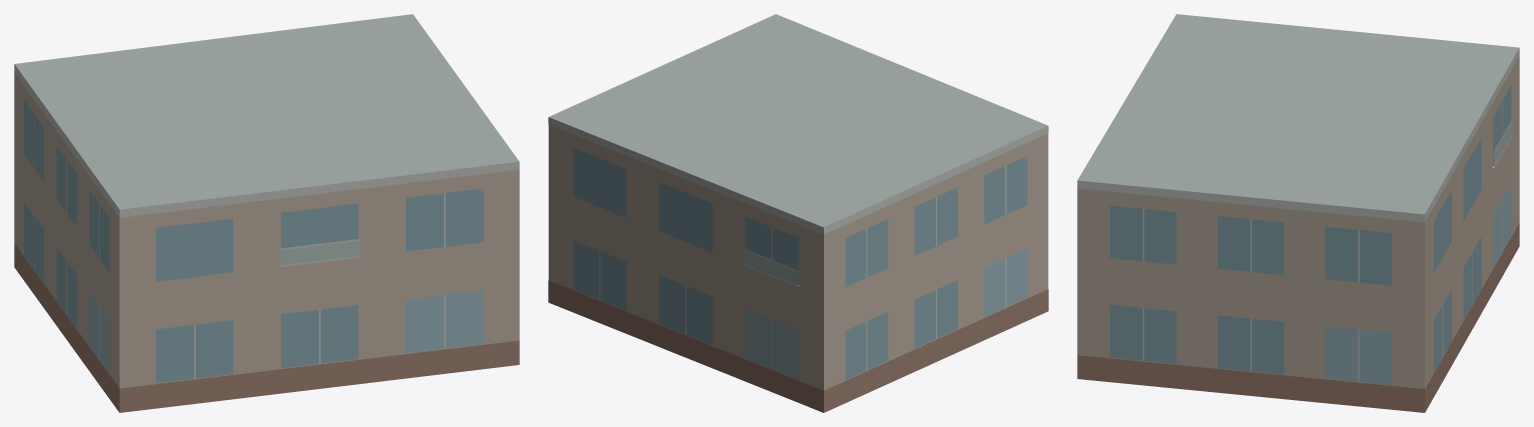
File: survey-upis-32753238.glb
3 renders of one model, left to right at view 1: azimuth 30°, elevation 25°; view 2: azimuth 150°, elevation 25°; view 3: azimuth 270°, elevation 25°, orthographic. The views are drawn at different scales.
Parts seen in each view (by area): view 1: survey-upis-32753238.tmp; view 2: survey-upis-32753238.tmp; view 3: survey-upis-32753238.tmp.
Part boxes in pixels (left/top/right/bottom): survey-upis-32753238.tmp: left=14, top=14, right=519, bottom=412; survey-upis-32753238.tmp: left=548, top=14, right=1048, bottom=412; survey-upis-32753238.tmp: left=1077, top=14, right=1519, bottom=412.
Size of the model in its own units: 13.22 by 6.1 by 12.33.
